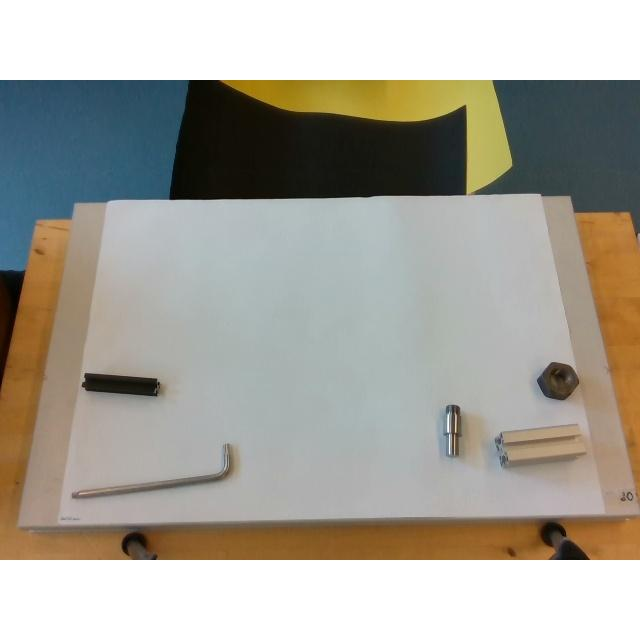AllenKey: (70, 442, 230, 498)
Axis2: (444, 404, 460, 456)
F20_20_B: (82, 372, 158, 396)
M30: (538, 362, 578, 398)
S40_40_G: (494, 424, 586, 466)
